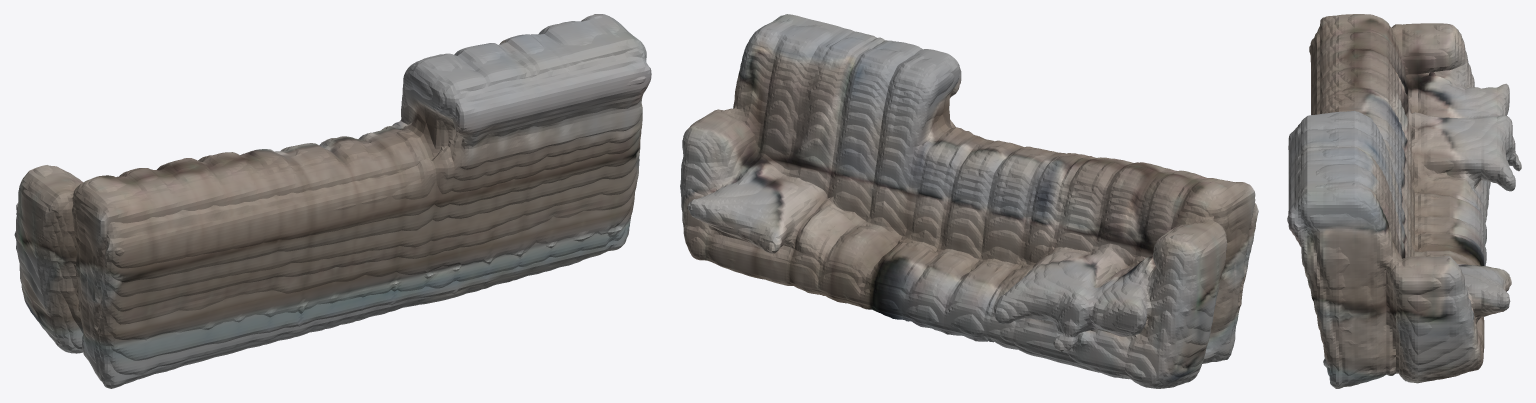
The model's file is Diivan TAZA.glb.
The picture shows the model from 3 angles, left to right: view 1: azimuth 30°, elevation 25°; view 2: azimuth 150°, elevation 25°; view 3: azimuth 270°, elevation 25°; orthographic projection. The views are drawn at different scales.
Visible parts, largest first — view 1: world; view 2: world; view 3: world.
Boxes of the visible parts, left/top/right/bottom form: world: left=14, top=14, right=651, bottom=388; world: left=680, top=14, right=1258, bottom=388; world: left=1287, top=14, right=1521, bottom=388.
Size of the model in its own units: 1.01 by 0.4159 by 0.4044.
